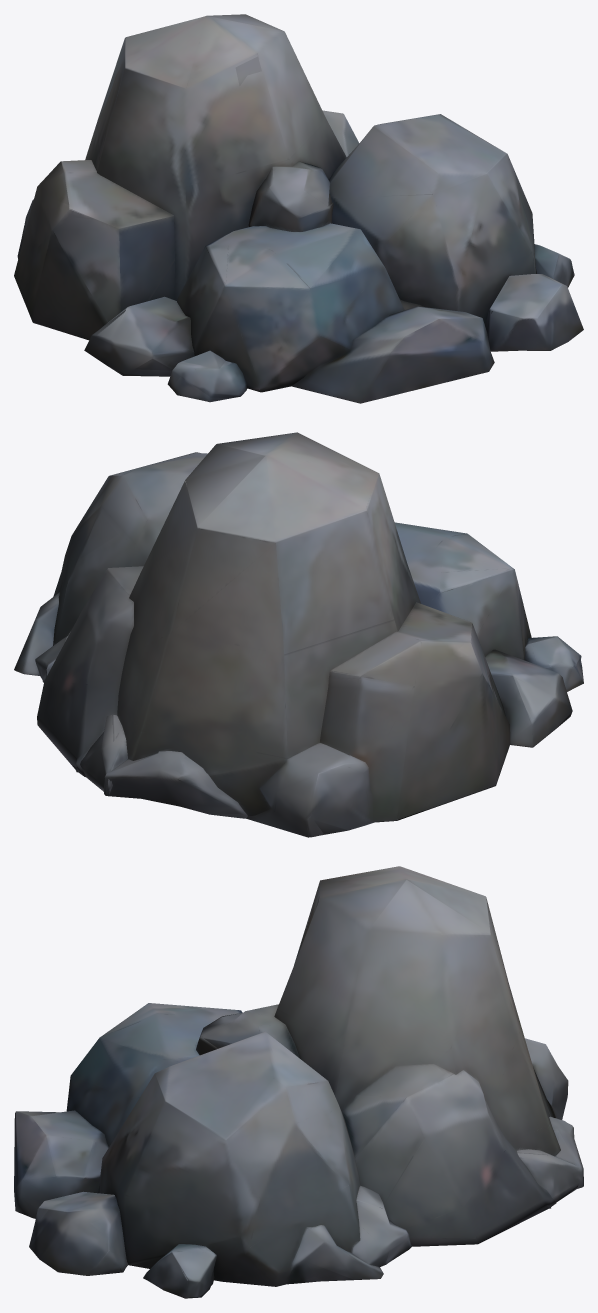
The model's file is 45-rock-cluster.glb.
3 views of the same model, one above another, from view 1: azimuth 30°, elevation 25°; view 2: azimuth 150°, elevation 25°; view 3: azimuth 270°, elevation 25° (orthographic). The views are drawn at different scales.
Parts seen in each view (by area): view 1: geometry_0; view 2: geometry_0; view 3: geometry_0.
Part boxes in pixels (<box>): geometry_0: <box>14,14,583,403</box>; geometry_0: <box>14,432,583,837</box>; geometry_0: <box>14,866,583,1298</box>.
Bounding box in the file's own units: 0.9536 × 0.5054 × 0.9438.
Materials: 1 (1 with a texture image).
